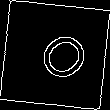O_SW: (22, 22, 88, 88)
